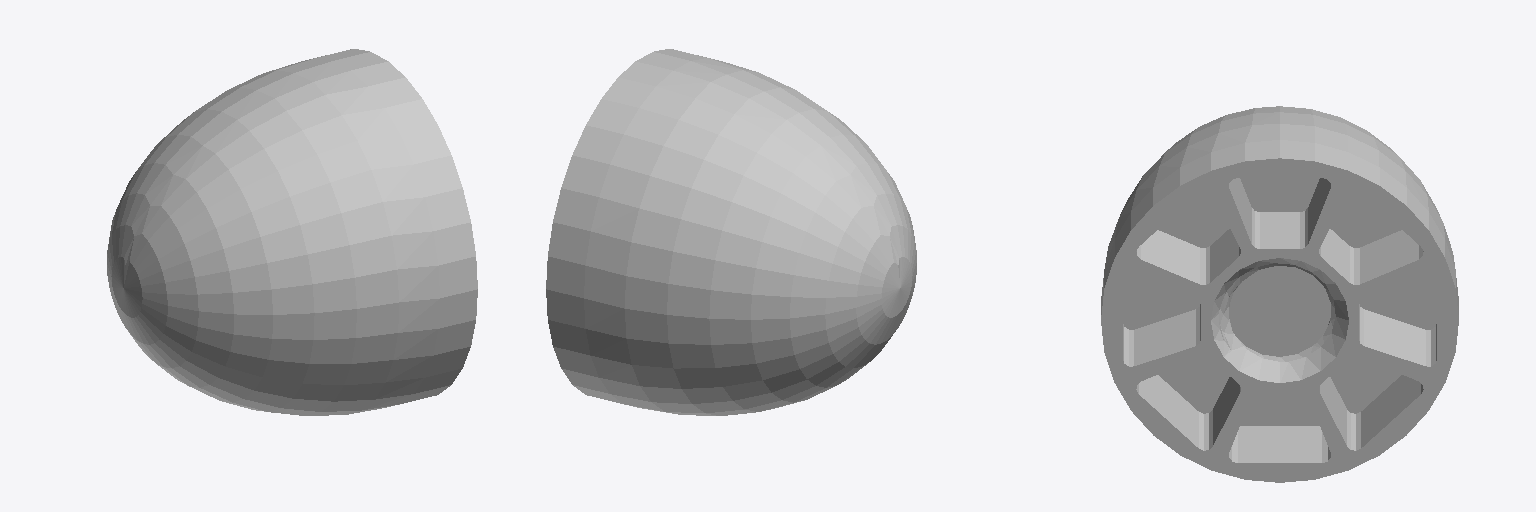
The model's file is Closer 02.obj.
3 renders of one model, left to right at view 1: azimuth 30°, elevation 25°; view 2: azimuth 150°, elevation 25°; view 3: azimuth 270°, elevation 25°, orthographic.
Parts seen in each view (by area): view 1: Замыкающая_гайка_№01; view 2: Замыкающая_гайка_№01; view 3: Замыкающая_гайка_№01.
Boxes of the visible parts, x1=… form: Замыкающая_гайка_№01: x1=107, y1=49, x2=477, y2=415; Замыкающая_гайка_№01: x1=546, y1=49, x2=916, y2=415; Замыкающая_гайка_№01: x1=1101, y1=106, x2=1458, y2=482.
Bounding box in the file's own units: 35 × 41 × 41.